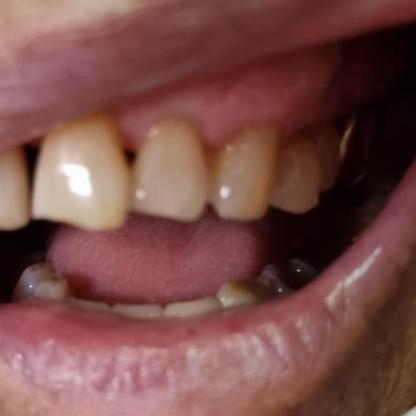Gap: (0, 138, 110, 226)
